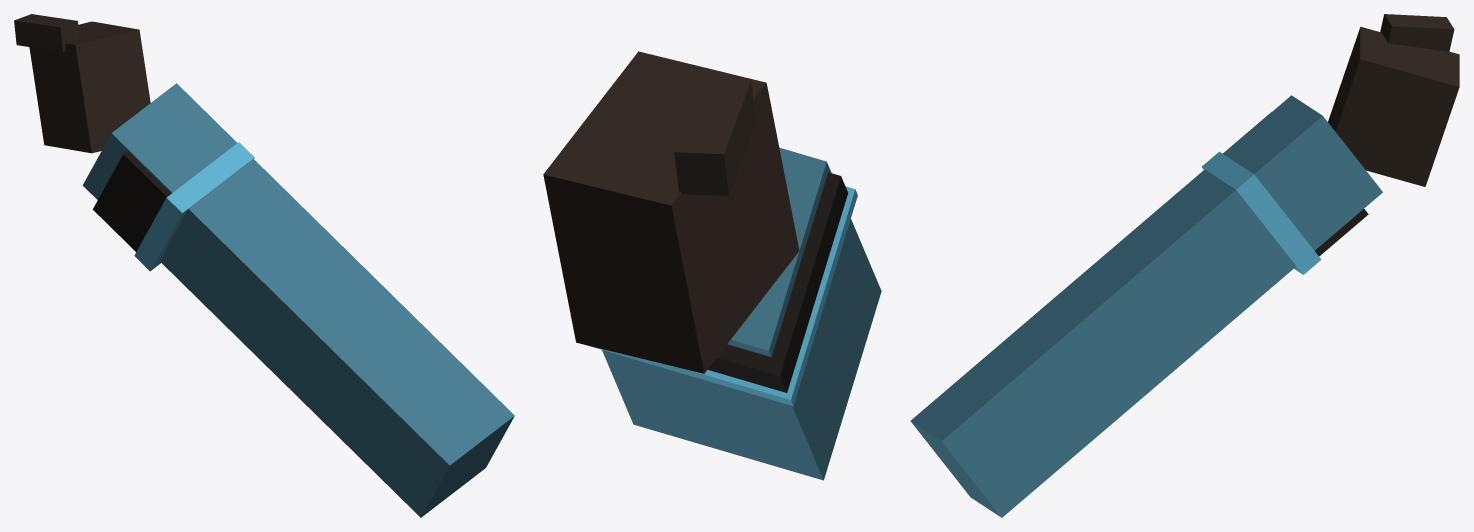
The model's file is BO_SM_Arms_FalconR_v001.glb.
3 views of the same model, side by side, from view 1: azimuth 30°, elevation 25°; view 2: azimuth 150°, elevation 25°; view 3: azimuth 270°, elevation 25° (orthographic). The views are drawn at different scales.
Visible parts, largest first — view 1: body_004, body_000, body_002, body_003, body_001; view 2: body_000, body_004, body_001, body_002, body_003; view 3: body_004, body_000, body_003, body_001.
Boxes of the visible parts, box(x1,y1,x2,y2) form: body_004: box(82, 83, 514, 517); body_000: box(29, 21, 150, 153); body_002: box(93, 151, 170, 251); body_003: box(134, 142, 254, 271); body_001: box(14, 14, 79, 51); body_000: box(543, 51, 799, 373); body_004: box(602, 147, 881, 480); body_001: box(674, 78, 755, 195); body_002: box(707, 172, 847, 392); body_003: box(587, 186, 857, 406); body_004: box(910, 95, 1382, 517); body_000: box(1328, 26, 1459, 186); body_003: box(1202, 151, 1321, 274); body_001: box(1380, 14, 1454, 51).
Bounding box in the file's own units: 0.2098 × 0.2984 × 0.3704.
